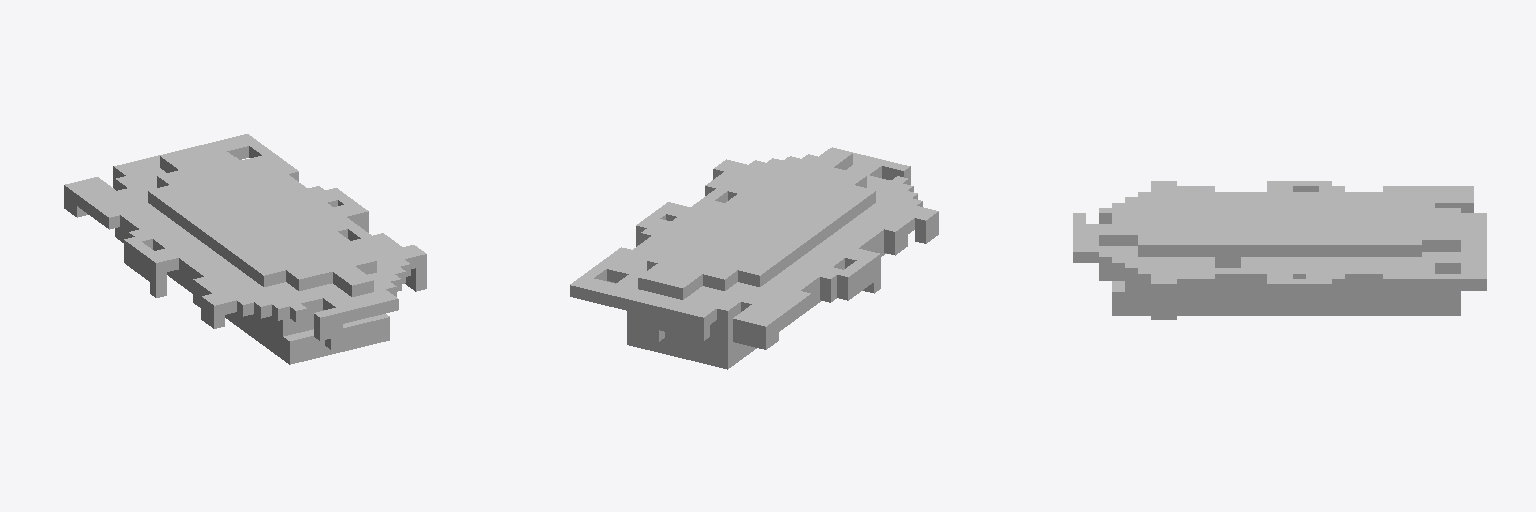
The model's file is plant1.obj.
3 views of the same model, side by side, from view 1: azimuth 30°, elevation 25°; view 2: azimuth 150°, elevation 25°; view 3: azimuth 270°, elevation 25° (orthographic).
Bounding box in the file's own units: 19 × 6 × 32.